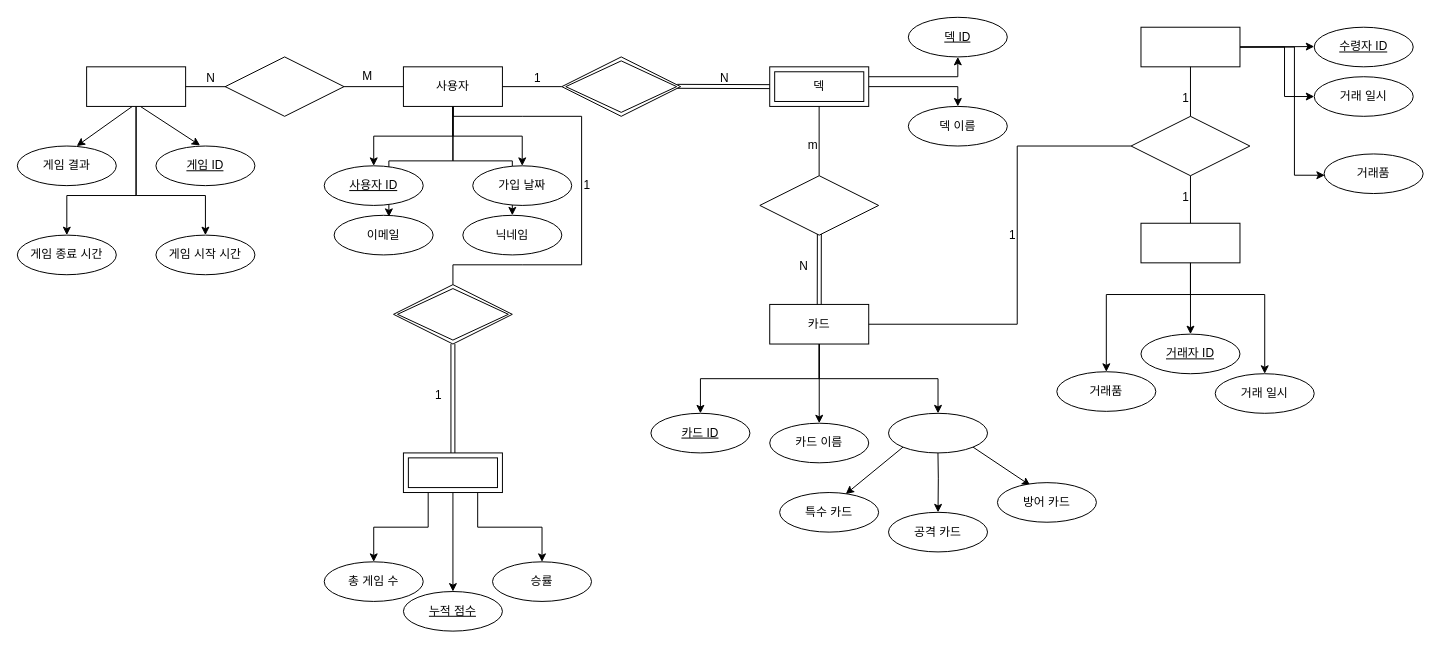
Some shapes in this 1440 by 648 pixel diagram are drawn without their labels. Each missing label, with the centre of its shape:
거래자: (1190,242)
게임: (136,86)
게임 참여: (284,86)
덱 구성: (819,205)
덱 소유: (621,86)
랭킹: (452,472)
랭킹 기록: (452,314)
수령자: (1190,46)
카드 거래: (1190,145)
카드 타입: (938,432)
